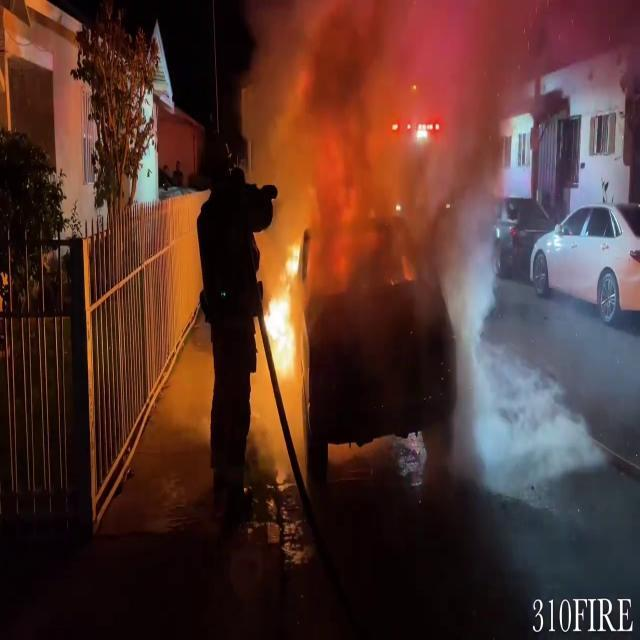Fire: (264, 238, 304, 391)
Smoke: (237, 0, 525, 272)
